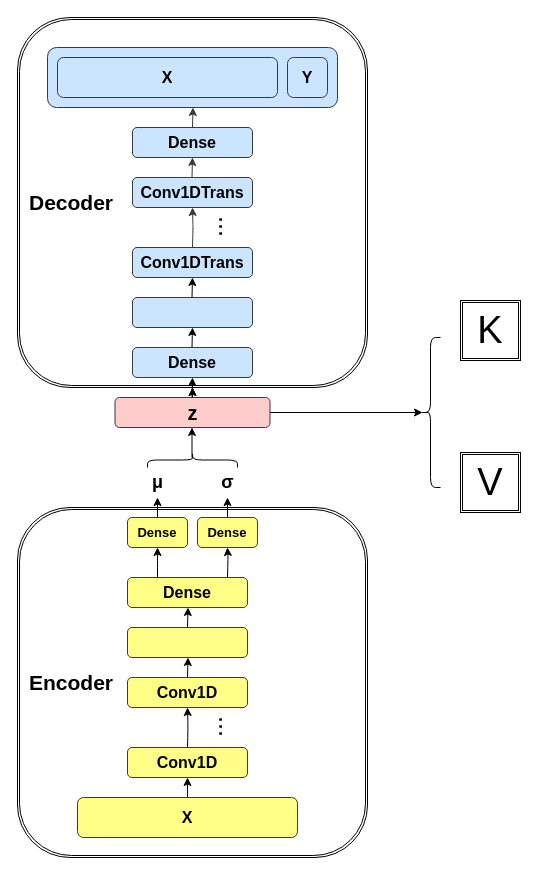
The diagram is 538 pixels wide and 875 high, and some of its shapes have lost their labels. Here are the shapes that lost their labels. From the top down, the centre of each, then its label:
At pixel 192 312: "Reshape".
At pixel 187 642: "Flatten".
